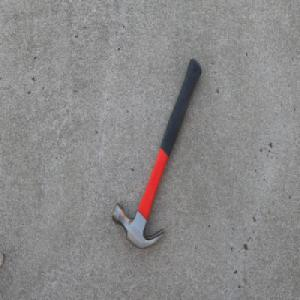Hammer: (110, 57, 202, 250)
